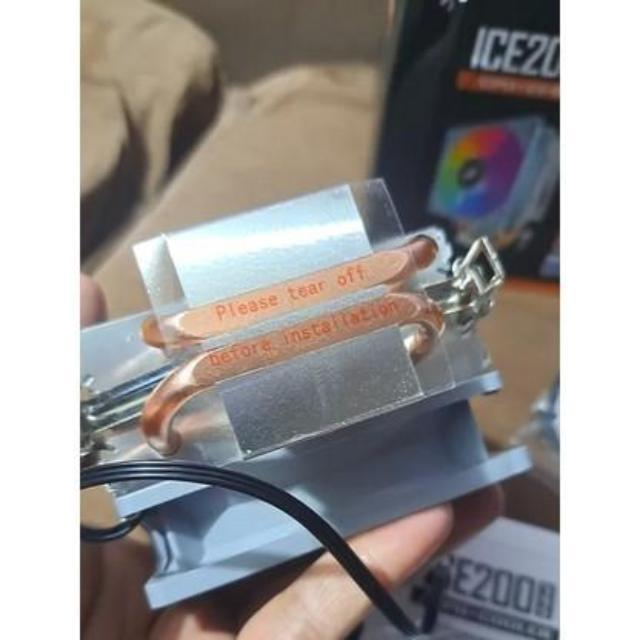CPU_Fan: (29, 183, 542, 594)
